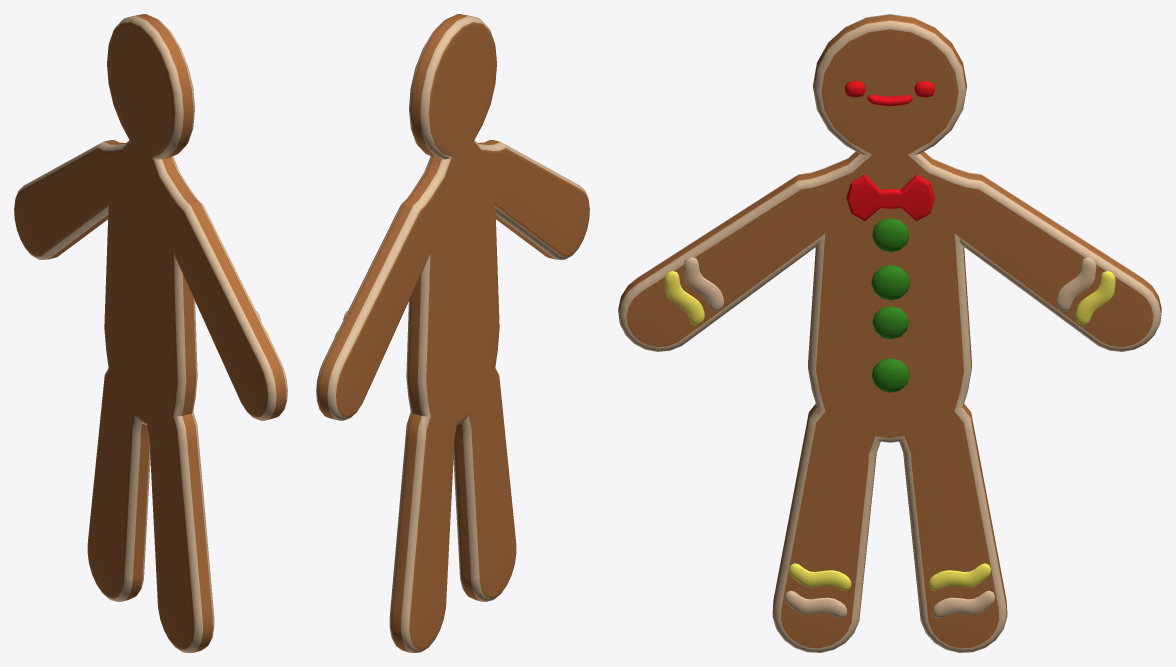
The model's file is avatars_tposing_gingerbread.glb.
3 renders of one model, left to right at view 1: azimuth 30°, elevation 25°; view 2: azimuth 150°, elevation 25°; view 3: azimuth 270°, elevation 25°, orthographic. The views are drawn at different scales.
Parts seen in each view (by area): view 1: mesh_char_98; view 2: mesh_char_98; view 3: mesh_char_98.
Part boxes in pixels (x1=…): mesh_char_98: x1=14, y1=14, x2=287, y2=652; mesh_char_98: x1=316, y1=14, x2=589, y2=652; mesh_char_98: x1=618, y1=14, x2=1161, y2=652.
Bounding box in the file's own units: 0.2286 × 4.65 × 3.61.
1 material, 1 textured.
